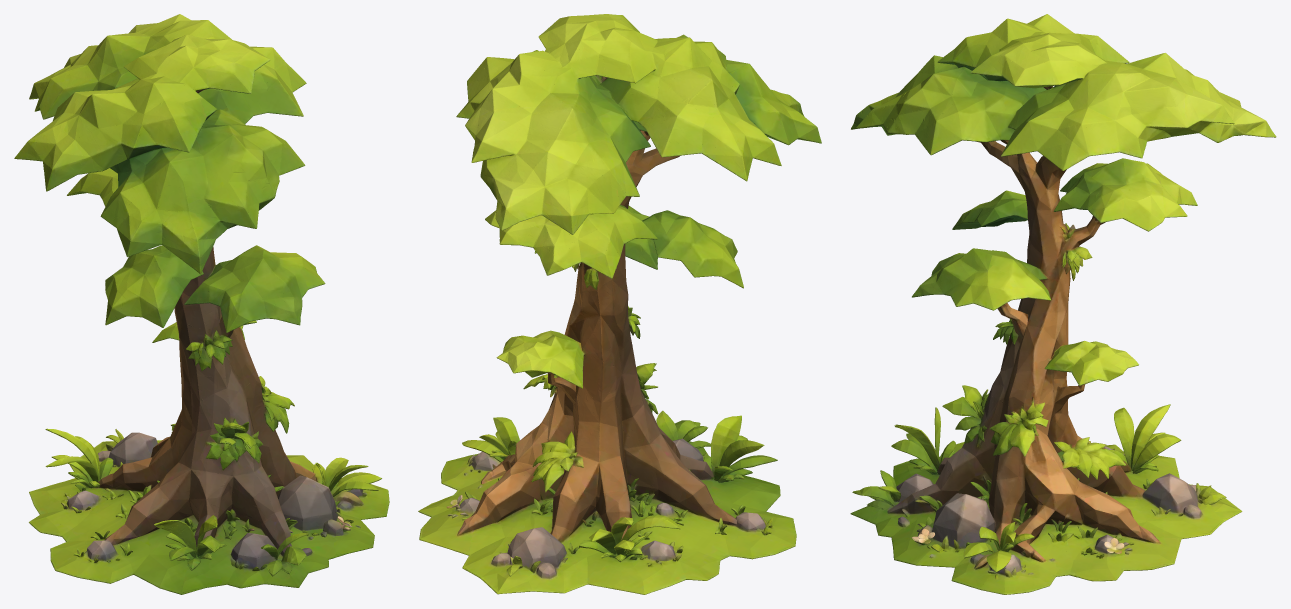
The model's file is KeepSakeTallTreeV1.glb.
The picture shows the model from 3 angles, left to right: view 1: azimuth 30°, elevation 25°; view 2: azimuth 150°, elevation 25°; view 3: azimuth 270°, elevation 25°; orthographic projection. The views are drawn at different scales.
Parts seen in each view (by area): view 1: tripo_node_b374f1f5-9846-4245-ac63-4adb1045880d; view 2: tripo_node_b374f1f5-9846-4245-ac63-4adb1045880d; view 3: tripo_node_b374f1f5-9846-4245-ac63-4adb1045880d.
Part boxes in pixels (x1,y1,x2,y2): tripo_node_b374f1f5-9846-4245-ac63-4adb1045880d: [14, 14, 389, 594]; tripo_node_b374f1f5-9846-4245-ac63-4adb1045880d: [418, 14, 821, 594]; tripo_node_b374f1f5-9846-4245-ac63-4adb1045880d: [850, 14, 1276, 594].
Size of the model in its own units: 0.7201 by 0.979 by 0.7984.
1 material, 1 textured.
